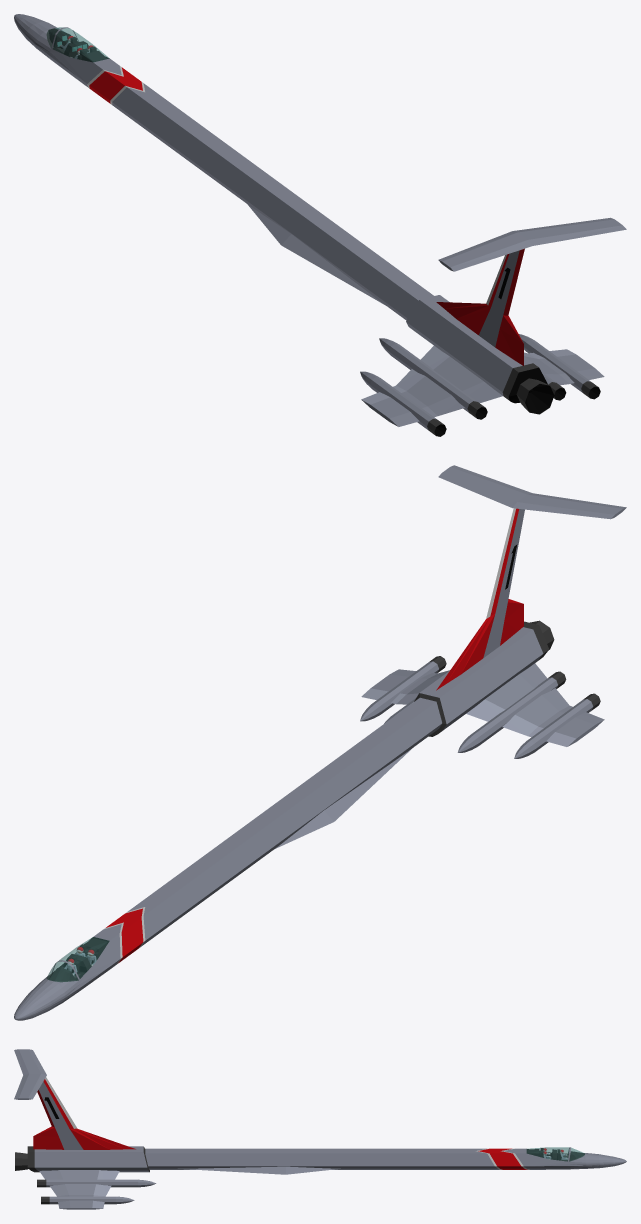
The picture shows the model from 3 angles, top to bottom: view 1: azimuth 30°, elevation 25°; view 2: azimuth 150°, elevation 25°; view 3: azimuth 270°, elevation 25°; orthographic projection. The views are drawn at different scales.
Parts seen in each view (by area): view 1: ShapeIndexedFaceSet_ShapeIndexedFaceSet.001, ShapeIndexedFaceSet.009_ShapeIndexedFaceSet.010, ShapeIndexedFaceSet.071_ShapeIndexedFaceSet.072, ShapeIndexedFaceSet.014_ShapeIndexedFaceSet.015, ShapeIndexedFaceSet.126_ShapeIndexedFaceSet.127, ShapeIndexedFaceSet.016_ShapeIndexedFaceSet.017, ShapeIndexedFaceSet.004_ShapeIndexedFaceSet.005, ShapeIndexedFaceSet.124_ShapeIndexedFaceSet.125, ShapeIndexedFaceSet.044_ShapeIndexedFaceSet.045, ShapeIndexedFaceSet.003_ShapeIndexedFaceSet.004, ShapeIndexedFaceSet.005_ShapeIndexedFaceSet.006, ShapeIndexedFaceSet.015_ShapeIndexedFaceSet.016; view 2: ShapeIndexedFaceSet_ShapeIndexedFaceSet.001, ShapeIndexedFaceSet.009_ShapeIndexedFaceSet.010, ShapeIndexedFaceSet.071_ShapeIndexedFaceSet.072, ShapeIndexedFaceSet.014_ShapeIndexedFaceSet.015, ShapeIndexedFaceSet.126_ShapeIndexedFaceSet.127, ShapeIndexedFaceSet.016_ShapeIndexedFaceSet.017, ShapeIndexedFaceSet.124_ShapeIndexedFaceSet.125, ShapeIndexedFaceSet.044_ShapeIndexedFaceSet.045, ShapeIndexedFaceSet.015_ShapeIndexedFaceSet.016, ShapeIndexedFaceSet.003_ShapeIndexedFaceSet.004, ShapeIndexedFaceSet.005_ShapeIndexedFaceSet.006; view 3: ShapeIndexedFaceSet_ShapeIndexedFaceSet.001, ShapeIndexedFaceSet.009_ShapeIndexedFaceSet.010, ShapeIndexedFaceSet.130_ShapeIndexedFaceSet.131, ShapeIndexedFaceSet.071_ShapeIndexedFaceSet.072, ShapeIndexedFaceSet.014_ShapeIndexedFaceSet.015, ShapeIndexedFaceSet.128_ShapeIndexedFaceSet.129, ShapeIndexedFaceSet.044_ShapeIndexedFaceSet.045, ShapeIndexedFaceSet.003_ShapeIndexedFaceSet.004, ShapeIndexedFaceSet.005_ShapeIndexedFaceSet.006, ShapeIndexedFaceSet.015_ShapeIndexedFaceSet.016, ShapeIndexedFaceSet.016_ShapeIndexedFaceSet.017, ShapeIndexedFaceSet.001_ShapeIndexedFaceSet.002.
Part boxes in pixels (x1,y1,x2,y2): ShapeIndexedFaceSet_ShapeIndexedFaceSet.001: (112,83,532,426); ShapeIndexedFaceSet.009_ShapeIndexedFaceSet.010: (14,14,590,430); ShapeIndexedFaceSet.071_ShapeIndexedFaceSet.072: (438,217,626,271); ShapeIndexedFaceSet.014_ShapeIndexedFaceSet.015: (407,356,568,415); ShapeIndexedFaceSet.126_ShapeIndexedFaceSet.127: (436,248,524,365); ShapeIndexedFaceSet.016_ShapeIndexedFaceSet.017: (371,354,604,426); ShapeIndexedFaceSet.004_ShapeIndexedFaceSet.005: (53,46,600,436); ShapeIndexedFaceSet.124_ShapeIndexedFaceSet.125: (478,230,535,347); ShapeIndexedFaceSet.044_ShapeIndexedFaceSet.045: (47,27,109,61); ShapeIndexedFaceSet.003_ShapeIndexedFaceSet.004: (68,36,142,100); ShapeIndexedFaceSet.005_ShapeIndexedFaceSet.006: (48,28,109,62); ShapeIndexedFaceSet.015_ShapeIndexedFaceSet.016: (396,346,537,390); ShapeIndexedFaceSet_ShapeIndexedFaceSet.001: (127,627,603,940); ShapeIndexedFaceSet.009_ShapeIndexedFaceSet.010: (14,654,593,1020); ShapeIndexedFaceSet.071_ShapeIndexedFaceSet.072: (438,465,626,519); ShapeIndexedFaceSet.014_ShapeIndexedFaceSet.015: (407,663,569,726); ShapeIndexedFaceSet.126_ShapeIndexedFaceSet.127: (436,508,523,690); ShapeIndexedFaceSet.016_ShapeIndexedFaceSet.017: (371,669,604,738); ShapeIndexedFaceSet.124_ShapeIndexedFaceSet.125: (483,492,534,657); ShapeIndexedFaceSet.044_ShapeIndexedFaceSet.045: (47,937,109,981); ShapeIndexedFaceSet.015_ShapeIndexedFaceSet.016: (396,693,537,736); ShapeIndexedFaceSet.003_ShapeIndexedFaceSet.004: (68,908,143,962); ShapeIndexedFaceSet.005_ShapeIndexedFaceSet.006: (49,937,109,981); ShapeIndexedFaceSet_ShapeIndexedFaceSet.001: (34,1146,494,1209); ShapeIndexedFaceSet.009_ShapeIndexedFaceSet.010: (35,1147,626,1204); ShapeIndexedFaceSet.130_ShapeIndexedFaceSet.131: (33,1079,135,1149); ShapeIndexedFaceSet.071_ShapeIndexedFaceSet.072: (14,1049,46,1098); ShapeIndexedFaceSet.014_ShapeIndexedFaceSet.015: (39,1170,99,1196); ShapeIndexedFaceSet.128_ShapeIndexedFaceSet.129: (38,1081,83,1149); ShapeIndexedFaceSet.044_ShapeIndexedFaceSet.045: (527,1147,584,1161); ShapeIndexedFaceSet.003_ShapeIndexedFaceSet.004: (478,1148,563,1166); ShapeIndexedFaceSet.005_ShapeIndexedFaceSet.006: (526,1148,584,1161); ShapeIndexedFaceSet.015_ShapeIndexedFaceSet.016: (93,1170,119,1196); ShapeIndexedFaceSet.016_ShapeIndexedFaceSet.017: (57,1195,93,1208); ShapeIndexedFaceSet.001_ShapeIndexedFaceSet.002: (27,1146,583,1171).
Size of the model in its own units: 90.84 by 78.26 by 401.
